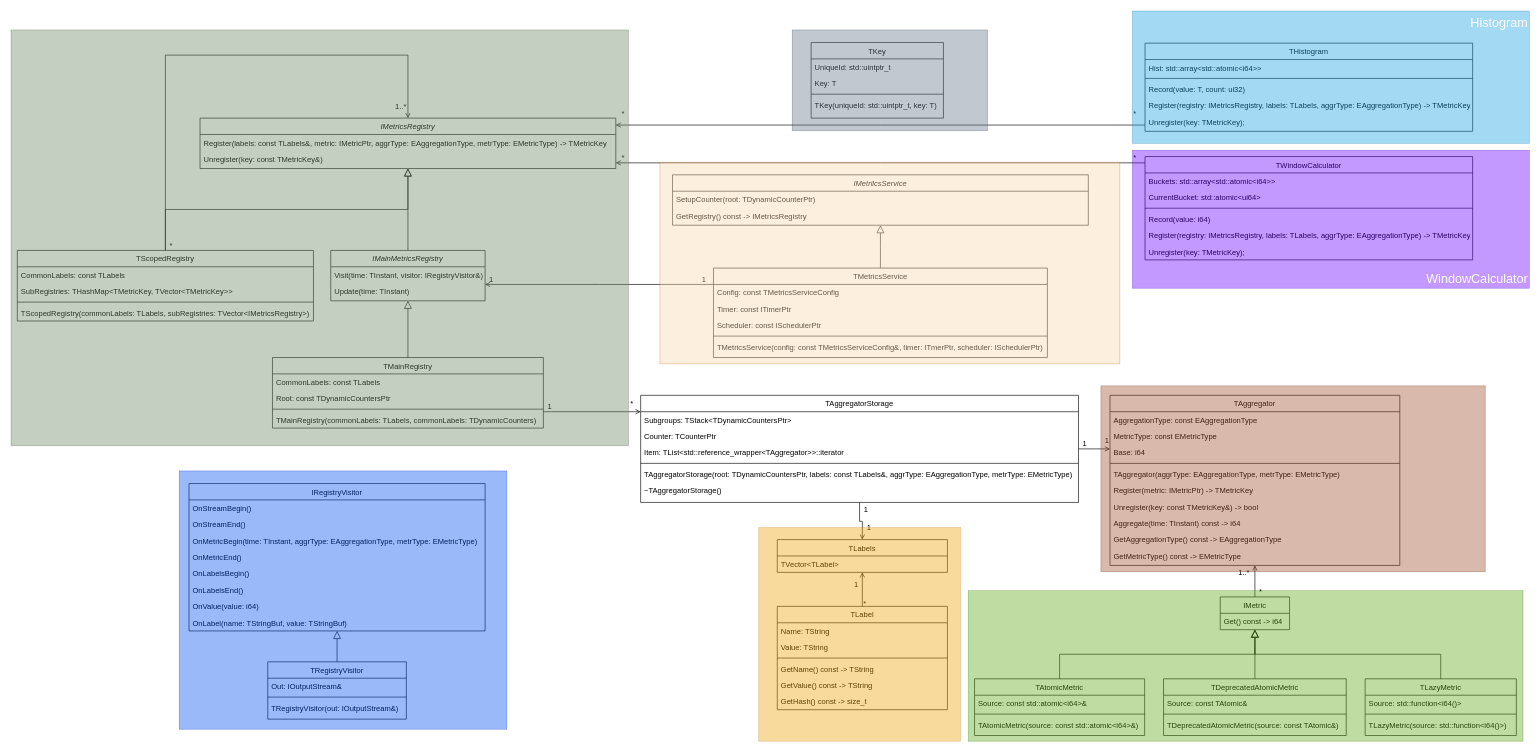
This 1540x752 diagram has some shape labels left out. The shapes that lost their labels are listed below. From the top down, each one's box as (x1, y1, x2, y2) in pixels, then its label:
(792, 29, 988, 131): Key
(10, 29, 628, 446): Registry
(659, 162, 1120, 364): Service
(1100, 385, 1485, 572): Aggregator
(179, 470, 507, 729): Visitor
(758, 527, 960, 741): Label
(968, 590, 1523, 741): Metric
